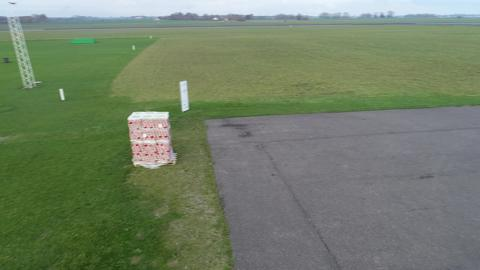RockwoolPallet: (128, 112, 176, 167)
